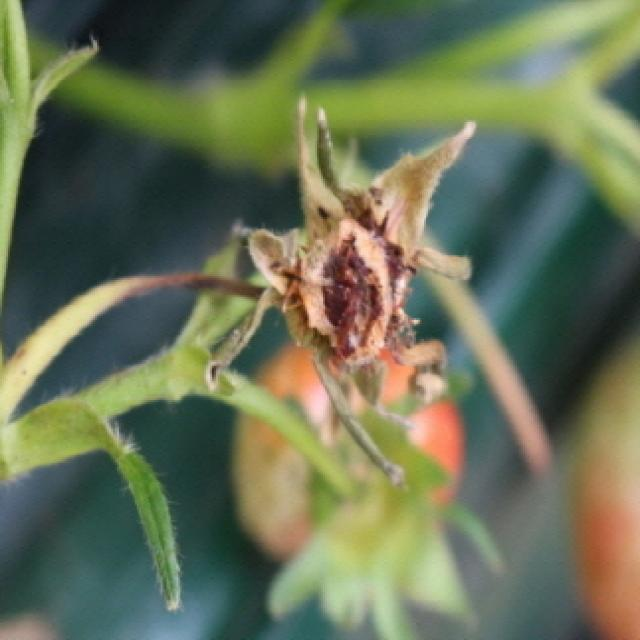Gray Mold: (185, 93, 478, 421)
